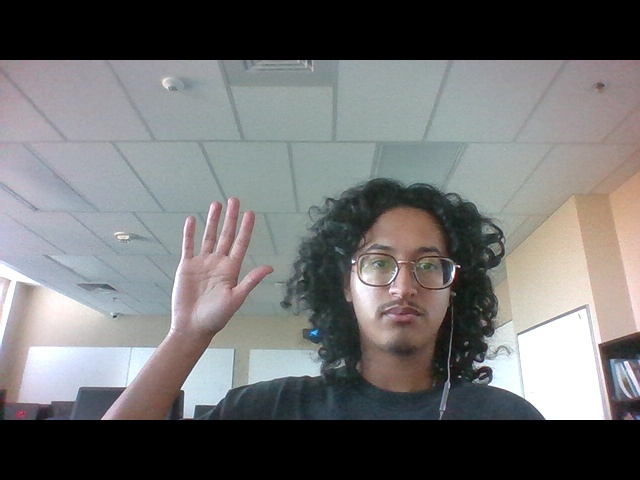hello: (169, 190, 280, 348)
